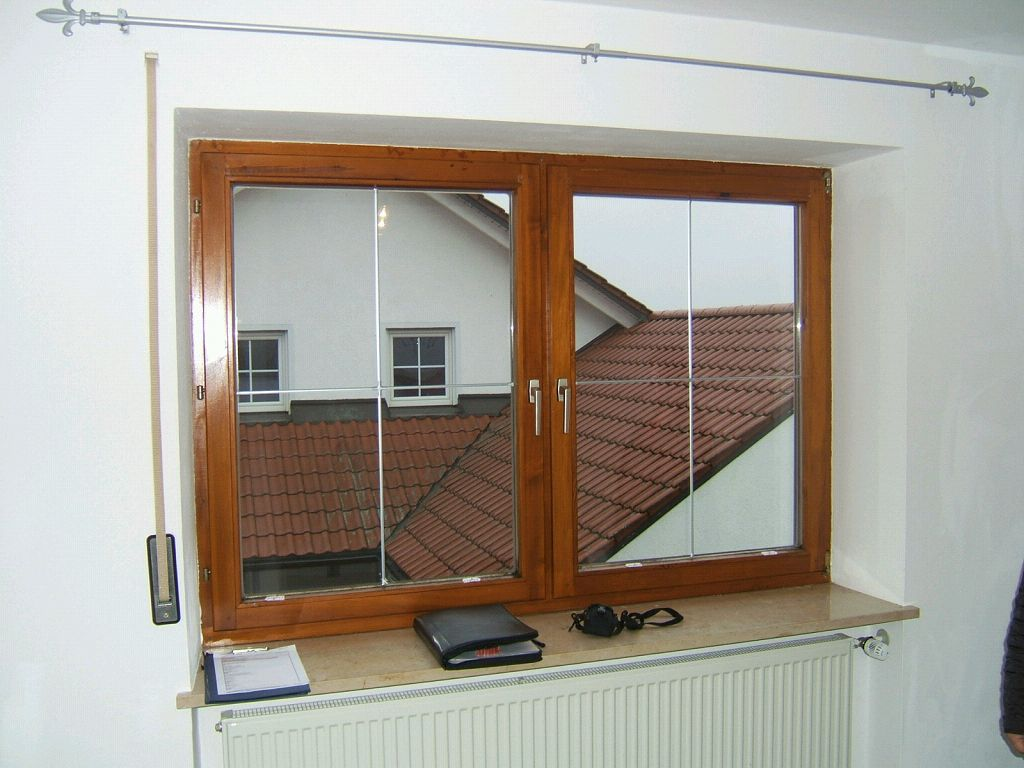windows: (185, 134, 841, 605)
